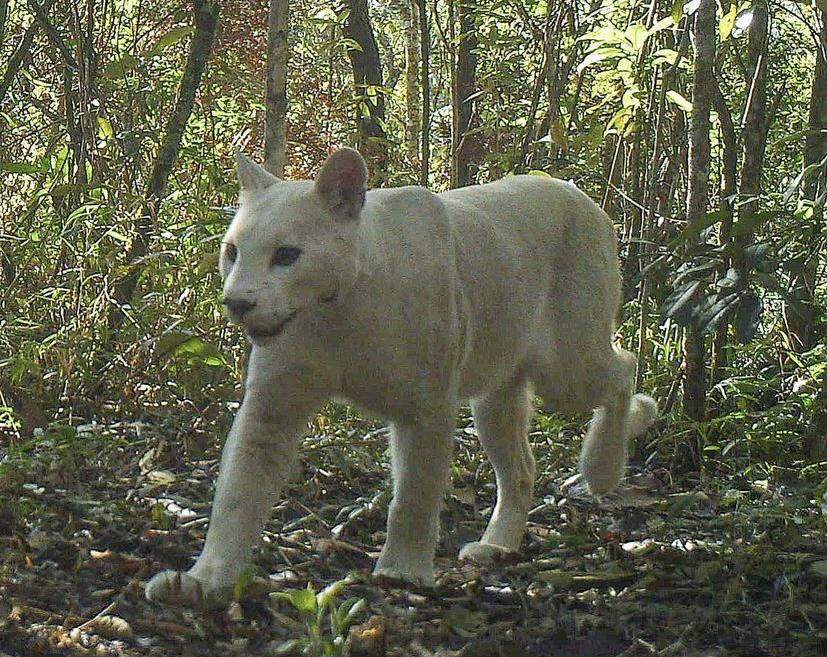OncaParda: (139, 144, 663, 609)
